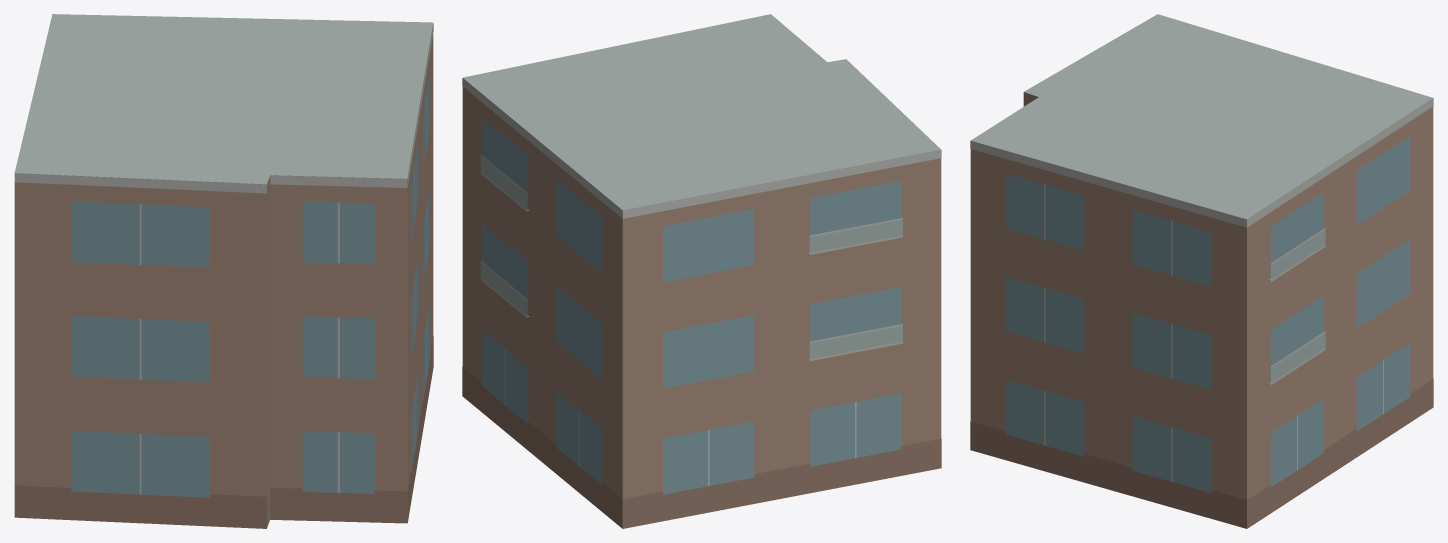
File: survey-upis-32655328.glb
3 views of the same model, side by side, from view 1: azimuth 30°, elevation 25°; view 2: azimuth 150°, elevation 25°; view 3: azimuth 270°, elevation 25° (orthographic). The views are drawn at different scales.
Parts seen in each view (by area): view 1: survey-upis-32655328.tmp; view 2: survey-upis-32655328.tmp; view 3: survey-upis-32655328.tmp.
Boxes of the visible parts, <box> form: survey-upis-32655328.tmp: <box>14,14,433,528</box>; survey-upis-32655328.tmp: <box>462,14,941,528</box>; survey-upis-32655328.tmp: <box>970,14,1433,528</box>.
Bounding box in the file's own units: 13.03 × 9.15 × 12.41.
